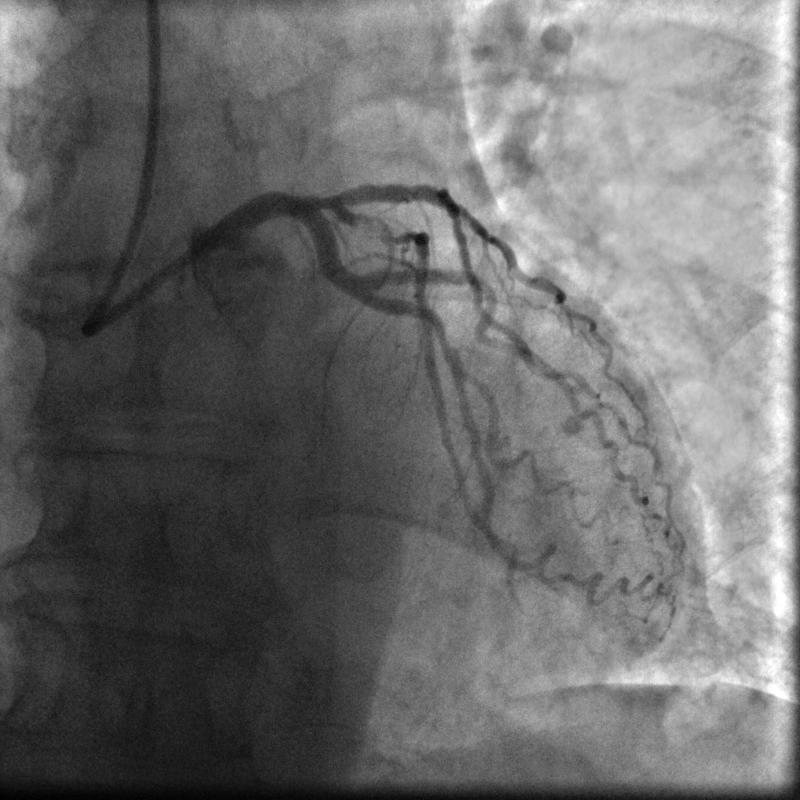Stenosis: (352, 204, 410, 250)
